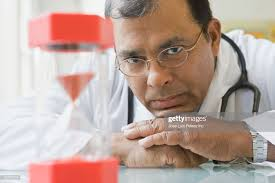Indian_Male: (119, 14, 210, 128)
